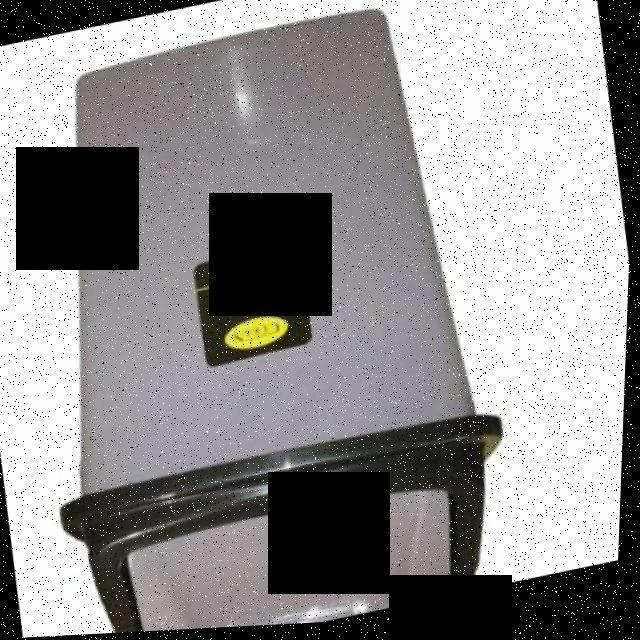bin: (0, 0, 554, 640)
